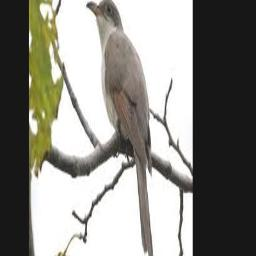Cuckoo: (86, 0, 154, 256)
